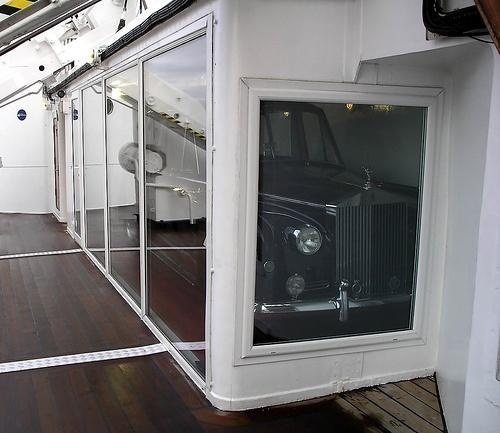car: (125, 100, 422, 337)
